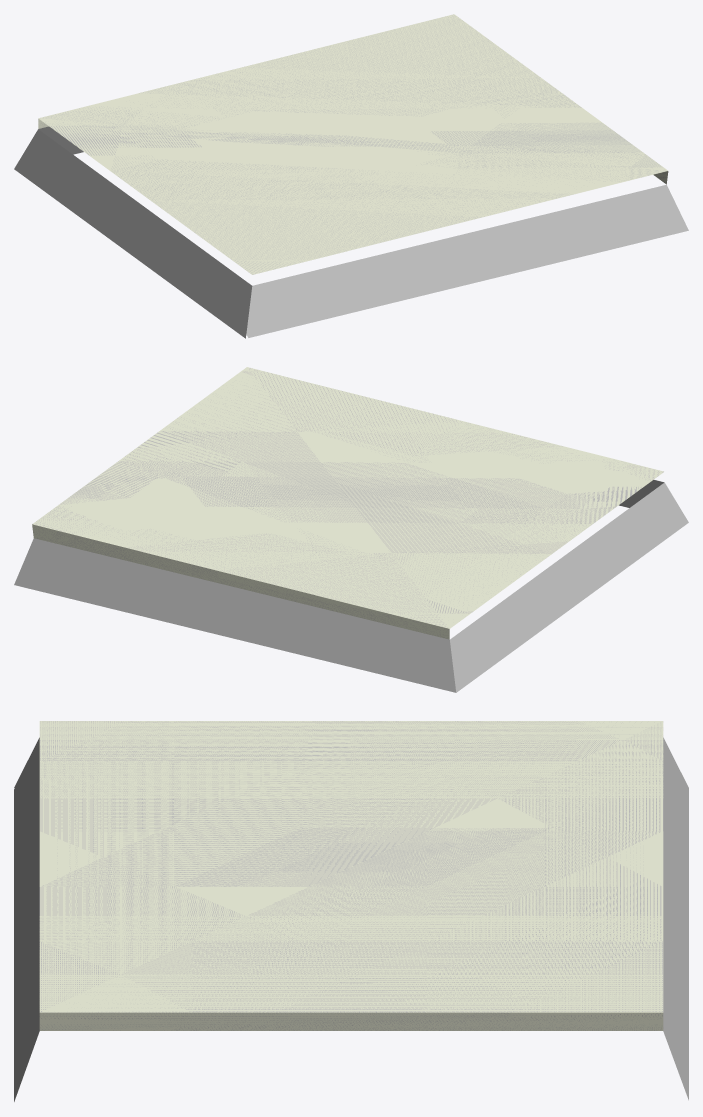
File: original-59.obj
3 renders of one model, top to bottom at view 1: azimuth 30°, elevation 25°; view 2: azimuth 150°, elevation 25°; view 3: azimuth 270°, elevation 25°, orthographic. The views are drawn at different scales.
Visible parts, largest first — view 1: tus57/tus/mesh1/mesh1-geometry#mesh1-geometry; view 2: tus57/tus/mesh1/mesh1-geometry#mesh1-geometry; view 3: tus57/tus/mesh1/mesh1-geometry#mesh1-geometry.
Part boxes in pixels (box(x1,y1,x2,y2)): tus57/tus/mesh1/mesh1-geometry#mesh1-geometry: box(14, 14, 688, 338); tus57/tus/mesh1/mesh1-geometry#mesh1-geometry: box(14, 367, 688, 692); tus57/tus/mesh1/mesh1-geometry#mesh1-geometry: box(14, 721, 688, 1101).
Bounding box in the file's own units: 0.0476 × 0.00578 × 0.0432.
